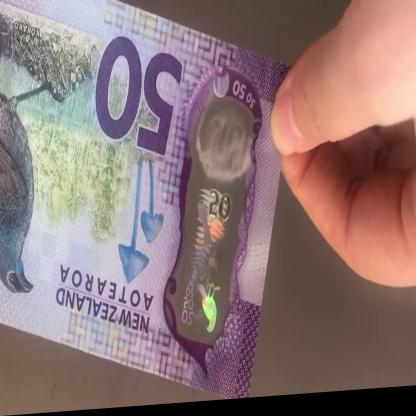50B: (181, 103, 252, 339)
